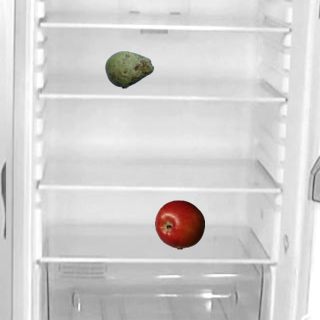Apple Braeburn: (154, 199, 204, 249)
Pear Stone: (104, 44, 154, 94)
